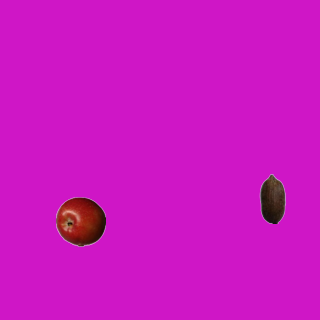Apple Braeburn: (55, 196, 105, 246)
Nut Pecan: (247, 173, 297, 223)
